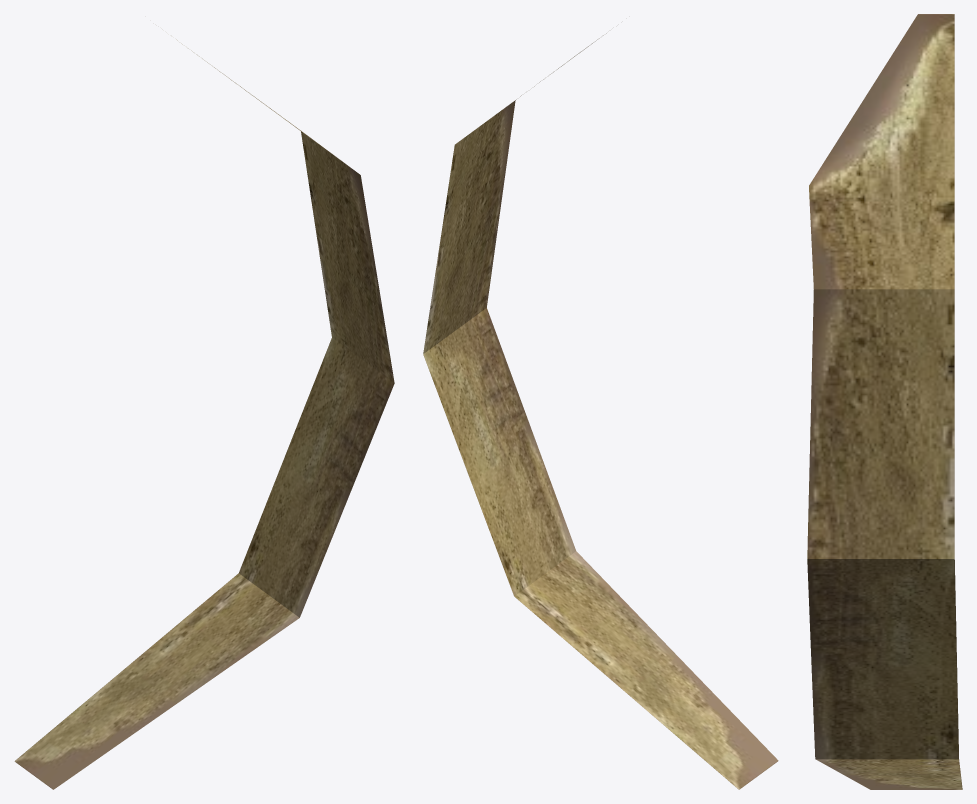
File: backdrop_toujane_frntmntn.glb
The picture shows the model from 3 angles, left to right: view 1: azimuth 30°, elevation 25°; view 2: azimuth 150°, elevation 25°; view 3: azimuth 270°, elevation 25°; orthographic projection. The views are drawn at different scales.
Size of the model in its own units: 11117 by 24323 by 4046.
Materials: 1 (1 with a texture image).
